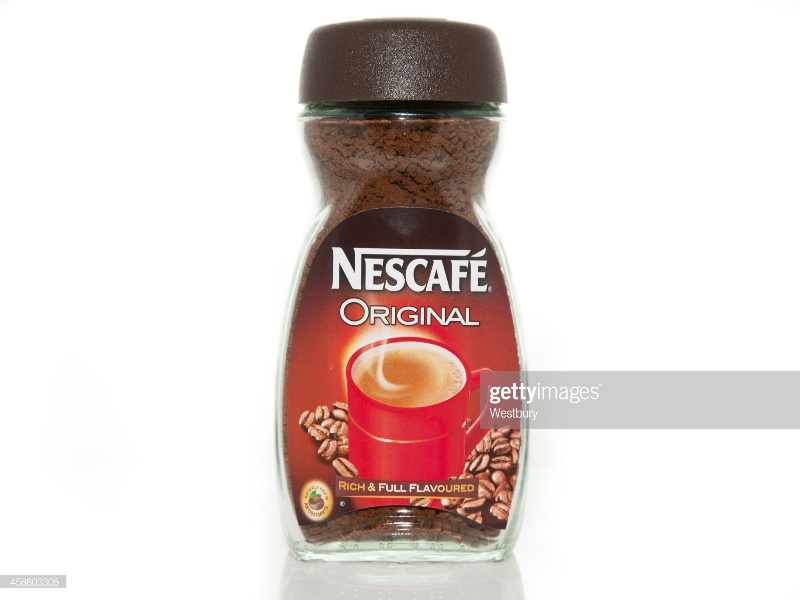nescafe-classic/gold-med: (274, 16, 522, 559)
